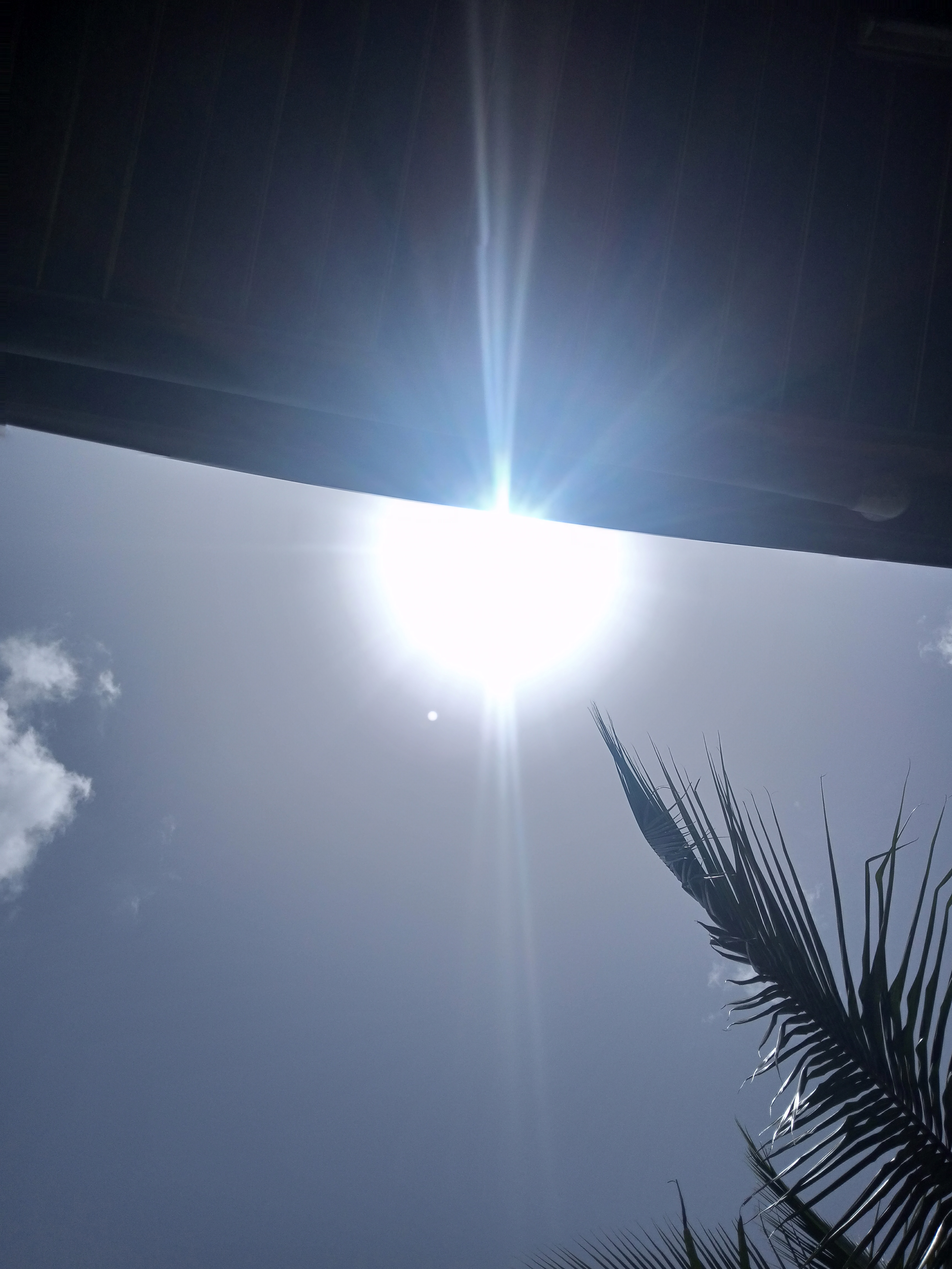sun: (304, 424, 729, 772)
